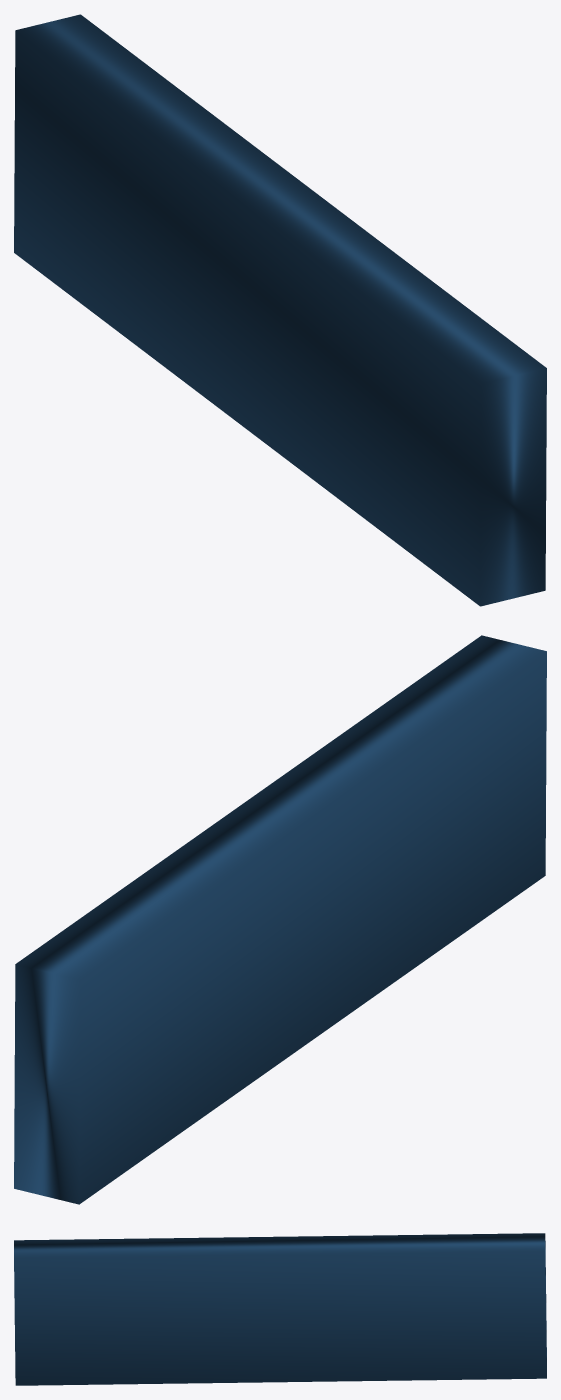
File: B_Stone_06.fbx
The picture shows the model from 3 angles, top to bottom: view 1: azimuth 30°, elevation 25°; view 2: azimuth 150°, elevation 25°; view 3: azimuth 270°, elevation 25°; orthographic projection. The views are drawn at different scales.
Parts seen in each view (by area): view 1: B_Stone_06; view 2: B_Stone_06; view 3: B_Stone_06.
Part boxes in pixels (x1,y1,x2,y2): B_Stone_06: (14, 14, 546, 606); B_Stone_06: (14, 635, 546, 1204); B_Stone_06: (14, 1233, 546, 1385).
Bounding box in the file's own units: 23.73 × 81.98 × 295.
